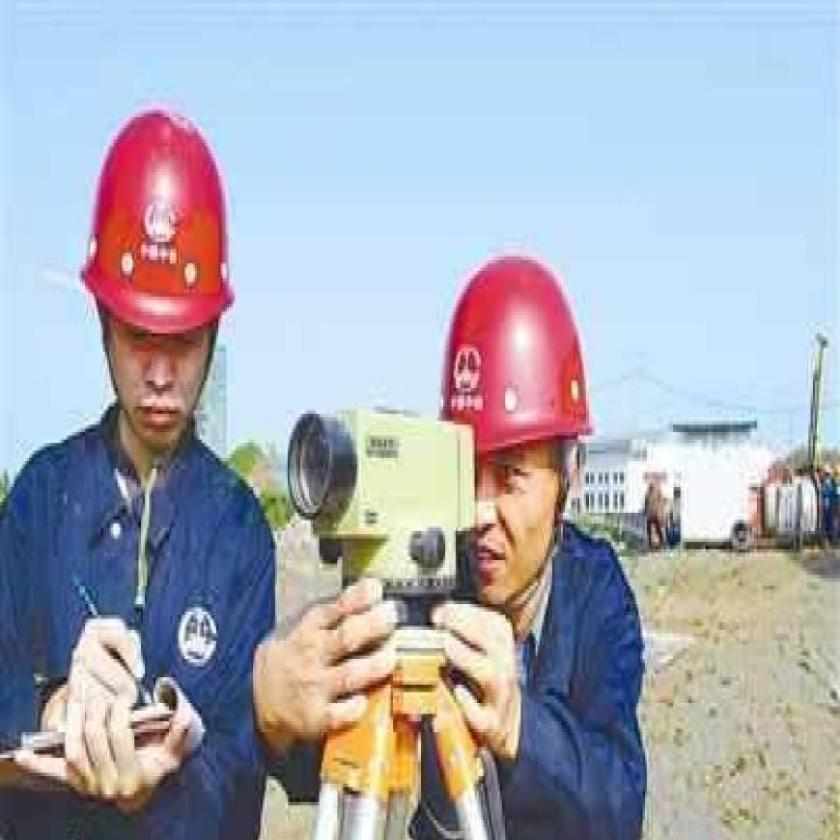Con_casco: (74, 96, 244, 463), (439, 243, 597, 612)
